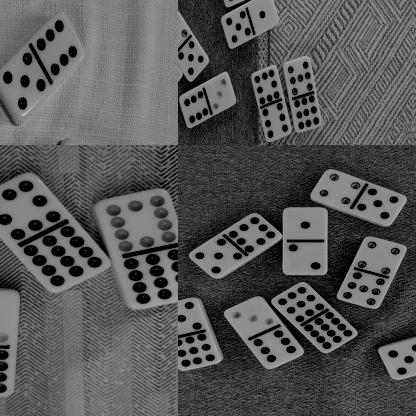pip-1: (282, 207, 328, 242), (249, 0, 278, 33)
pip-10: (96, 189, 177, 251)
pip-11: (0, 346, 15, 397)
pip-12: (24, 228, 109, 294), (121, 249, 178, 311), (304, 312, 357, 354)
pip-2: (282, 241, 326, 275)
pip-3: (223, 297, 273, 335), (208, 72, 236, 114), (0, 290, 20, 344)
pip-4: (356, 236, 407, 276), (310, 169, 358, 208), (178, 9, 186, 50)
pip-5: (0, 51, 46, 117), (188, 239, 243, 279), (356, 189, 406, 227), (377, 343, 416, 380), (178, 40, 208, 84), (221, 9, 250, 50), (178, 297, 201, 336)
pip-6: (36, 12, 84, 77), (252, 328, 303, 370), (178, 90, 209, 128), (262, 103, 290, 143)
pip-7: (335, 273, 385, 311), (283, 57, 313, 97)
pip-8: (0, 171, 60, 240), (227, 213, 280, 254), (251, 67, 279, 106)
pip-9: (271, 283, 324, 323), (178, 334, 218, 371), (292, 96, 323, 134)
